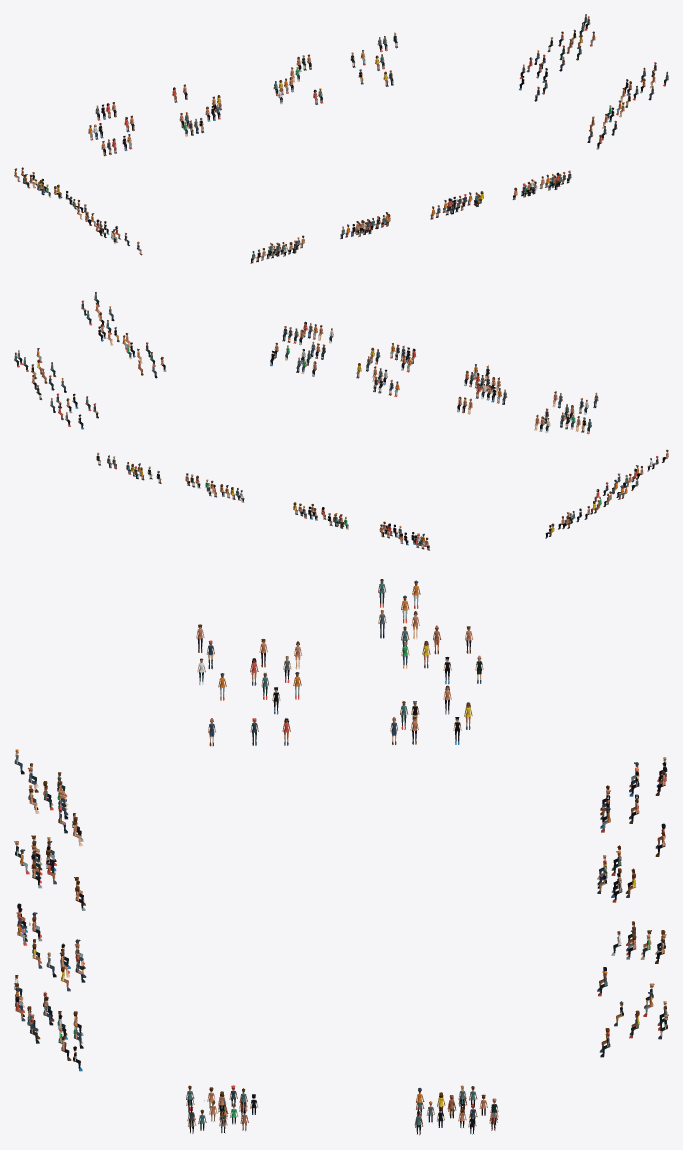
Rendered from AudienceBlock4.gltf.
3 renders of one model, top to bottom at view 1: azimuth 30°, elevation 25°; view 2: azimuth 150°, elevation 25°; view 3: azimuth 270°, elevation 25°, orthographic. The views are drawn at different scales.
Visible parts, largest first — view 1: Block4; view 2: Block4; view 3: Block4.
Part boxes in pixels (x1,y1,x2,y2): Block4: (14, 14, 668, 263); Block4: (14, 292, 668, 550); Block4: (14, 579, 668, 1135).
Bounding box in the file's own units: 68.01 × 6.75 × 36.95.
Materials: 1 (1 with a texture image).
